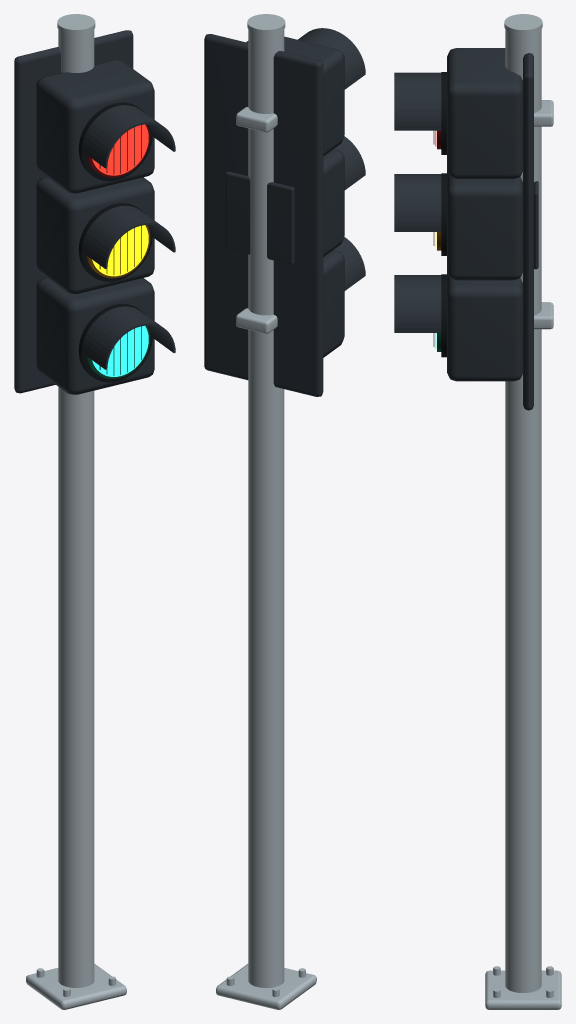
Rendered from DS_Signal_Vehicle.fbx.
3 views of the same model, side by side, from view 1: azimuth 30°, elevation 25°; view 2: azimuth 150°, elevation 25°; view 3: azimuth 270°, elevation 25° (orthographic).
Parts seen in each view (by area): view 1: Post.012, Backplate, Module_Red, Module_Amber, Module_Green, SunVisor.002, SunVisor, SunVisor.001, BasePlate.012, Lamp_Amber_Lit_Amber, Lamp_Red_Lit_Red, Lamp_Green_Lit_Green (+4 smaller); view 2: Post.012, Backplate, ServiceDoor, Module_Red, BasePlate.012, Module_Green, Module_Amber, SunVisor, SunVisor.001, SunVisor.002, MountBracket.001, MountBracket (+1 smaller); view 3: Post.012, Module_Red, Module_Green, Module_Amber, Backplate, SunVisor, SunVisor.001, SunVisor.002, BasePlate.012, PostCap.012, LensSeal.002, LensSeal (+4 smaller).
Part boxes in pixels (x1,y1,x2,y2): Post.012: [58, 29, 94, 987]; Backplate: [14, 30, 133, 393]; Module_Red: [36, 60, 154, 193]; Module_Amber: [36, 177, 154, 293]; Module_Green: [36, 278, 154, 394]; SunVisor.002: [82, 306, 175, 369]; SunVisor: [82, 105, 175, 168]; SunVisor.001: [82, 205, 175, 268]; BasePlate.012: [26, 963, 126, 1009]; Lamp_Amber_Lit_Amber: [92, 225, 148, 276]; Lamp_Red_Lit_Red: [92, 124, 148, 175]; Lamp_Green_Lit_Green: [92, 325, 148, 376]; Post.012: [248, 29, 284, 987]; Backplate: [204, 34, 323, 396]; ServiceDoor: [225, 171, 294, 264]; Module_Red: [246, 36, 344, 156]; BasePlate.012: [216, 964, 316, 1009]; Module_Green: [323, 250, 344, 357]; Module_Amber: [323, 149, 344, 256]; SunVisor: [298, 28, 365, 89]; SunVisor.001: [334, 136, 365, 189]; SunVisor.002: [334, 237, 365, 290]; MountBracket.001: [236, 308, 277, 333]; MountBracket: [236, 107, 277, 132]; Post.012: [505, 29, 541, 992]; Module_Red: [447, 48, 522, 178]; Module_Green: [447, 272, 522, 381]; Module_Amber: [447, 171, 522, 280]; Backplate: [523, 53, 533, 410]; SunVisor: [394, 72, 441, 130]; SunVisor.001: [394, 174, 441, 231]; SunVisor.002: [394, 275, 441, 332]; BasePlate.012: [485, 970, 561, 1009]; PostCap.012: [504, 14, 542, 34]; LensSeal.002: [441, 274, 446, 357]; LensSeal: [441, 72, 446, 154].
Bounding box in the file's own units: 43 × 337 × 52.5.
